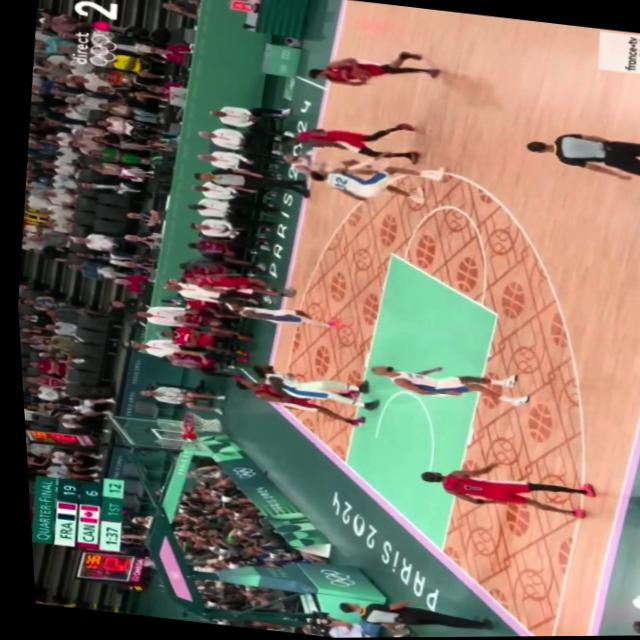ball_handler: (305, 47, 441, 96)
